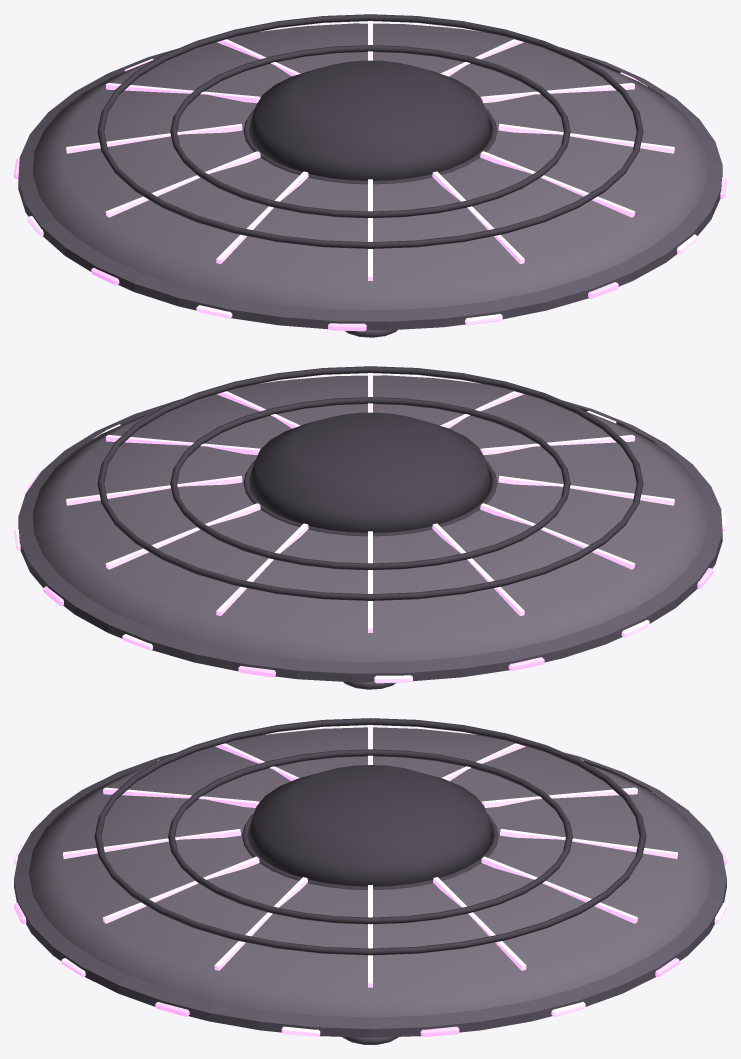
The model's file is ufo_scout.glb.
The picture shows the model from 3 angles, top to bottom: view 1: azimuth 30°, elevation 25°; view 2: azimuth 150°, elevation 25°; view 3: azimuth 270°, elevation 25°; orthographic projection.
Parts seen in each view (by area): view 1: Lod_scout; view 2: Lod_scout; view 3: Lod_scout.
Boxes of the visible parts, bbox=[...] form: Lod_scout: bbox=[14, 14, 726, 337]; Lod_scout: bbox=[14, 366, 726, 689]; Lod_scout: bbox=[14, 718, 726, 1044].
Bounding box in the file's own units: 8.24 × 2.04 × 8.24.
